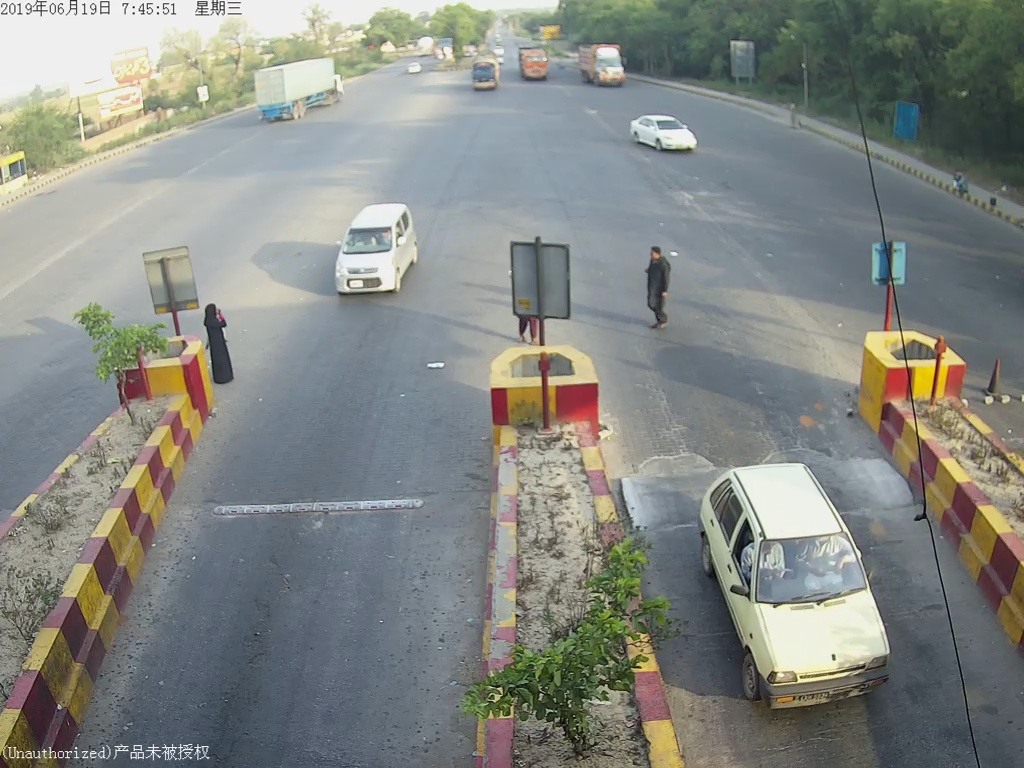Cat-1: (702, 456, 916, 715), (331, 197, 426, 307)
